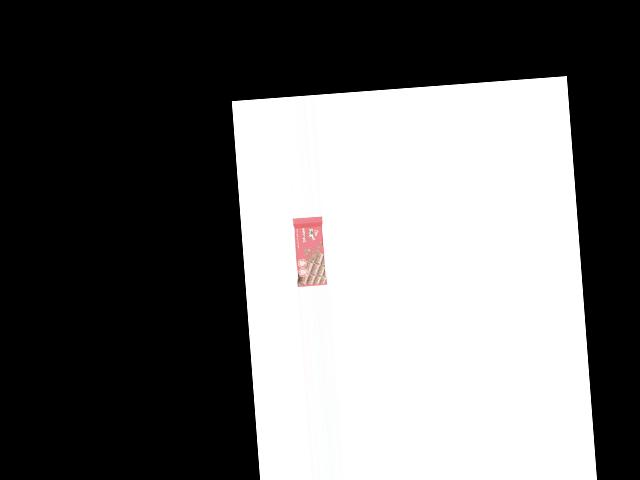chocolate: (292, 214, 327, 287)
